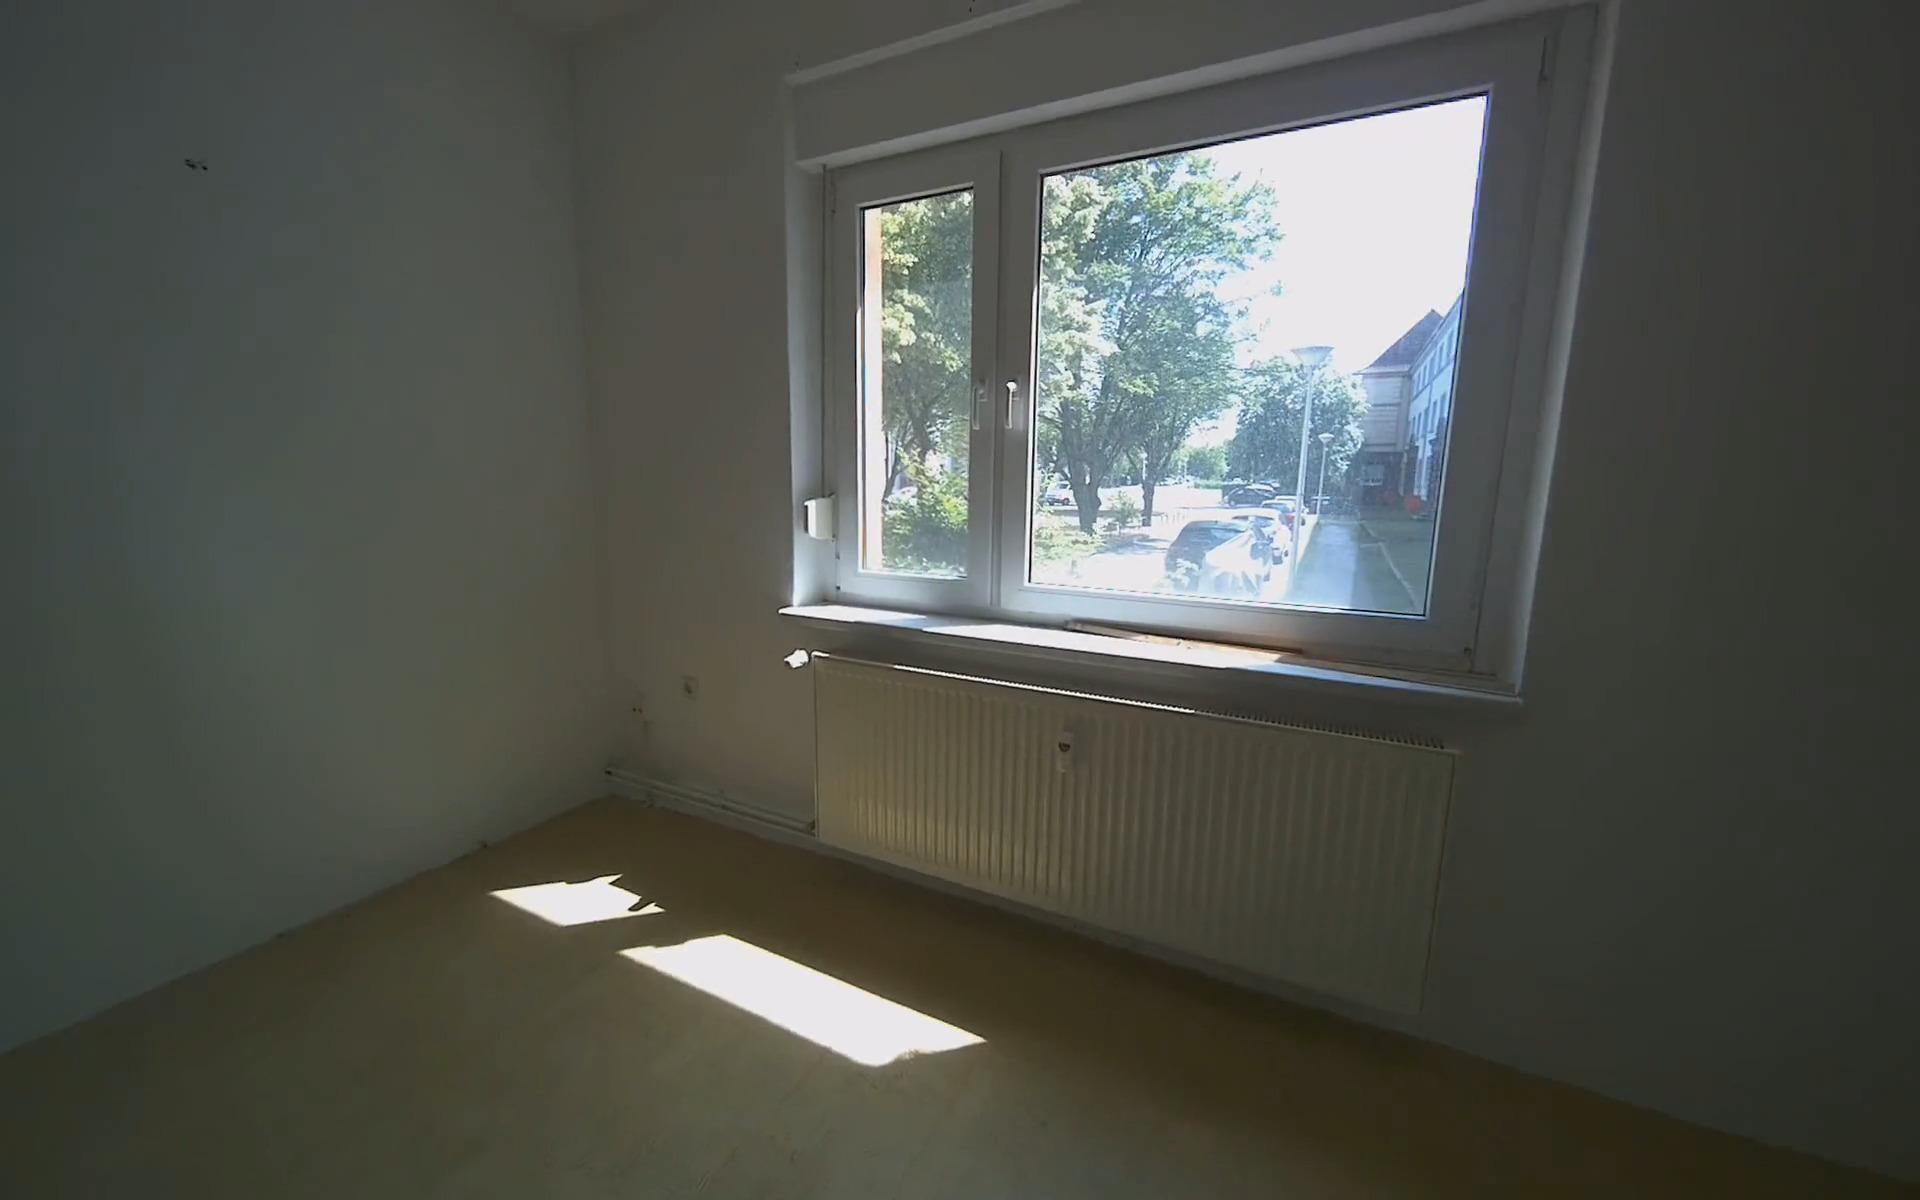radiator: (800, 647, 1465, 1031)
window: (813, 15, 1548, 665)
